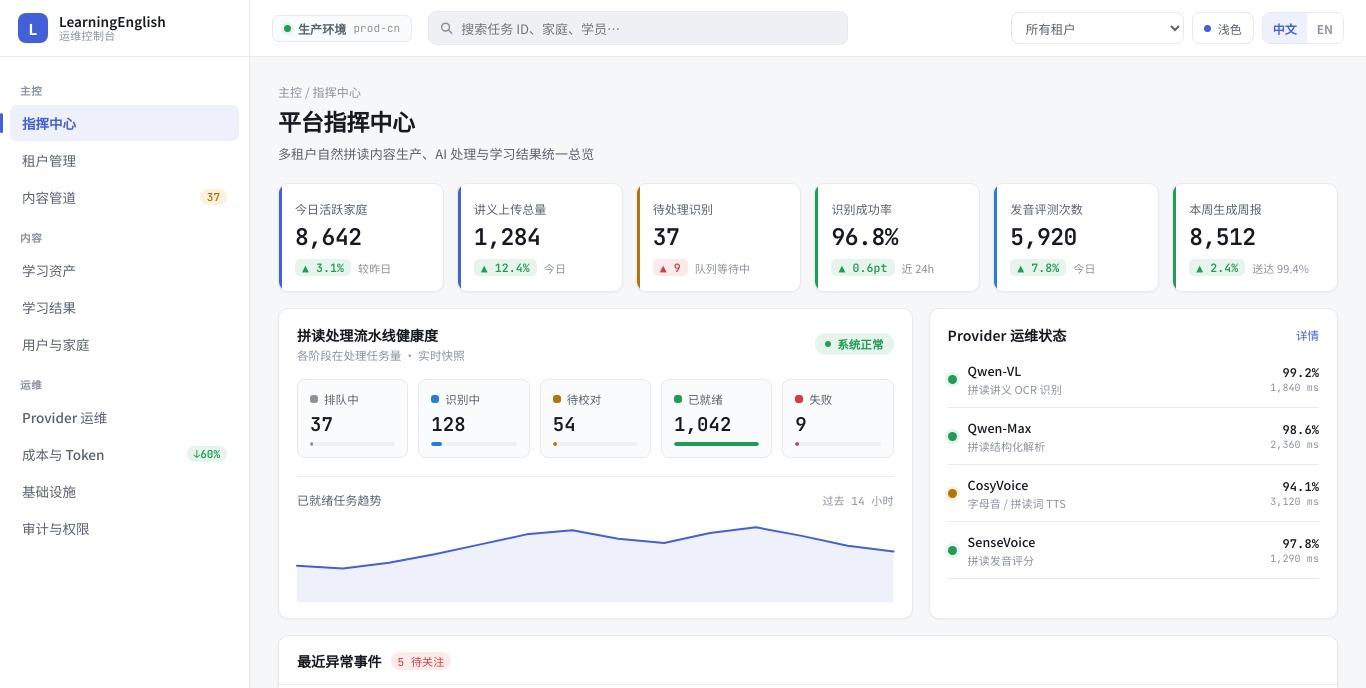
interactions › filters the content pipeline and opens the job drawer
The width and height of the screenshot is (1366, 688).
Click the button "内容管道 37" at (124, 197), box [10, 179, 239, 215]
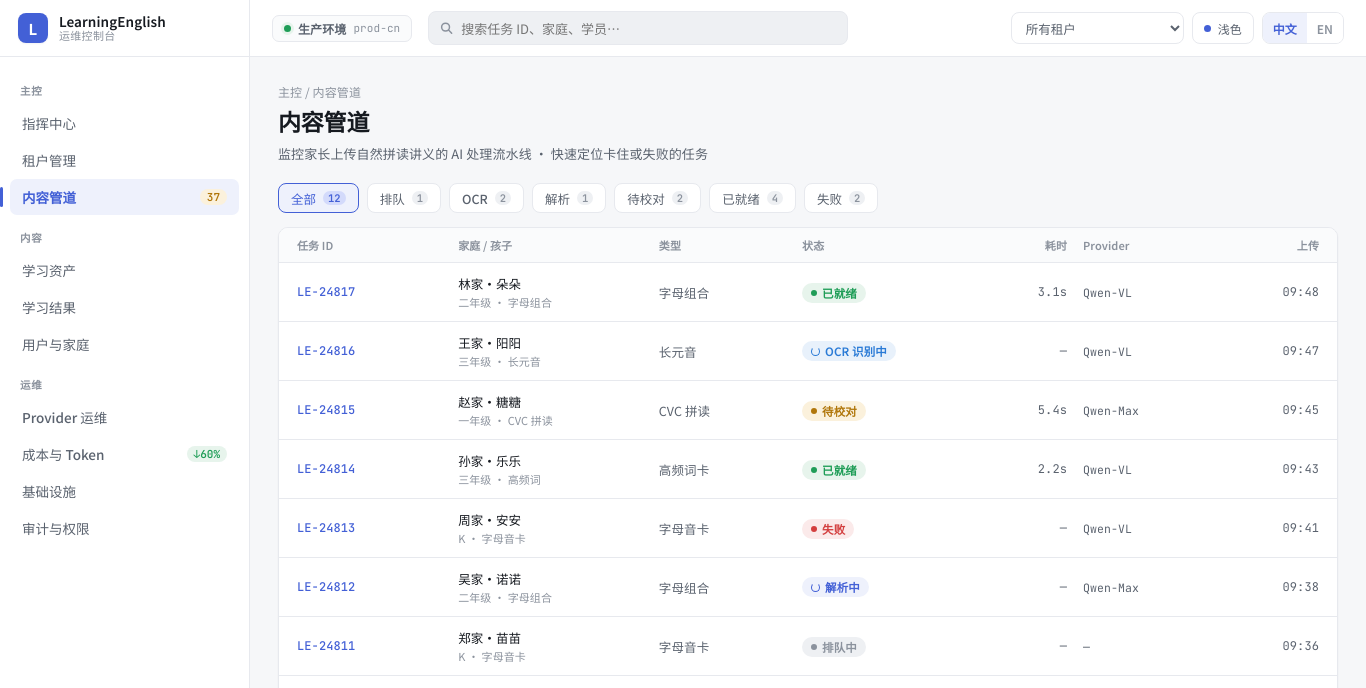
Result: the text "LE-24817" is shown at [279, 262, 450, 322]
Filtering to 失败 hides the ready job and keeps a failed one.
Click the button "失败 2" at (841, 198), box [804, 183, 878, 213]
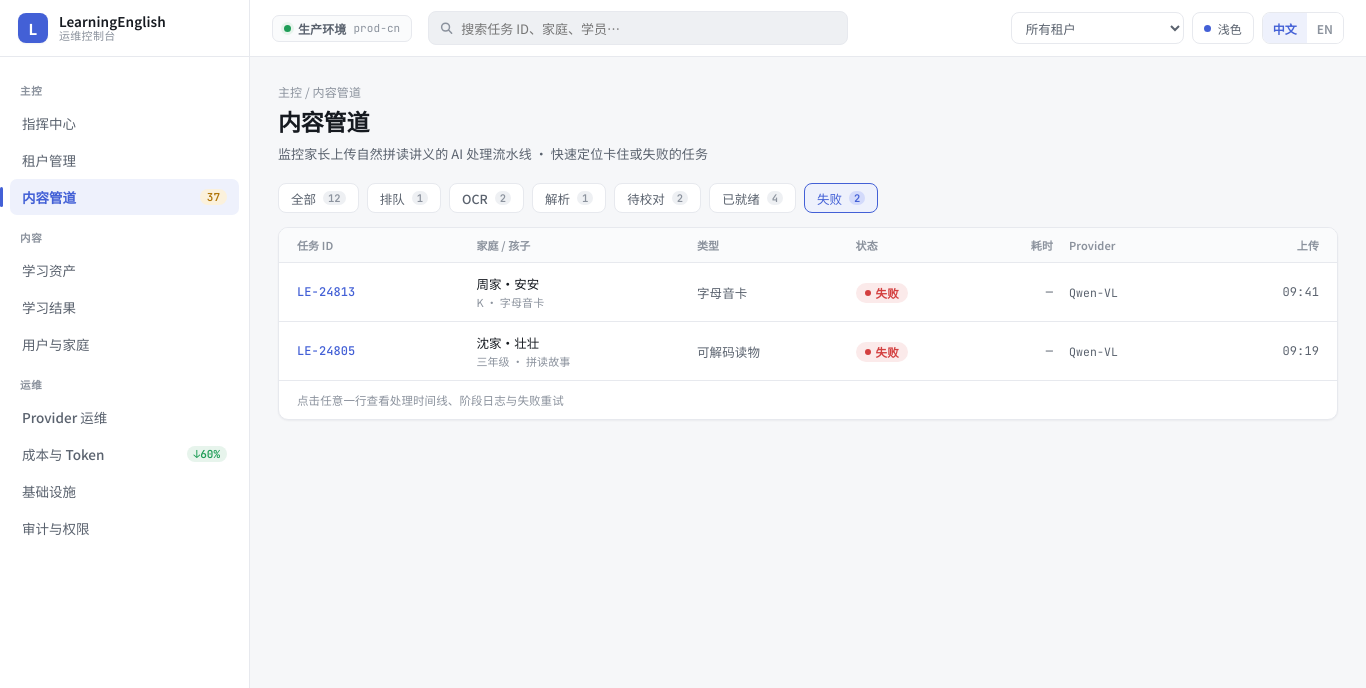
Result: the button "LE-24817" is gone
Clicking a row opens the detail drawer with the timeline.
Click the text "LE-24813" at (326, 292), box [279, 262, 468, 322]
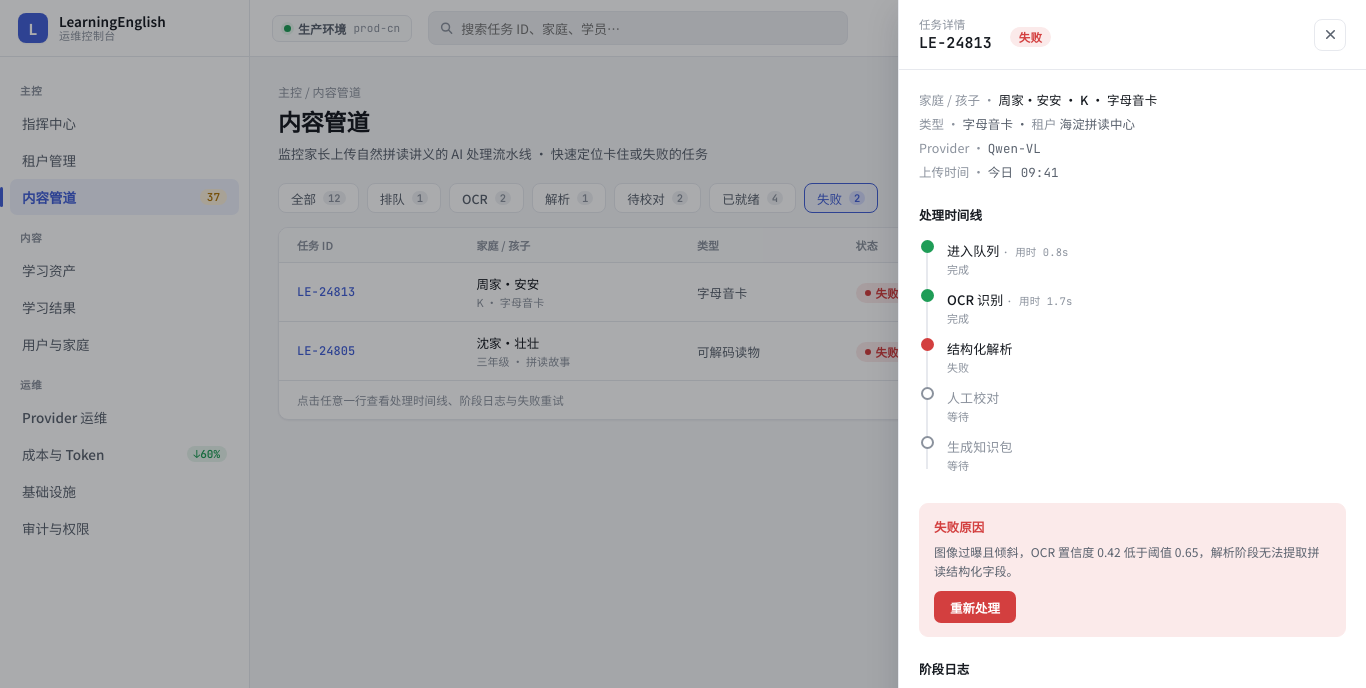
Result: the text "处理时间线" is shown at [919, 205, 982, 224]
